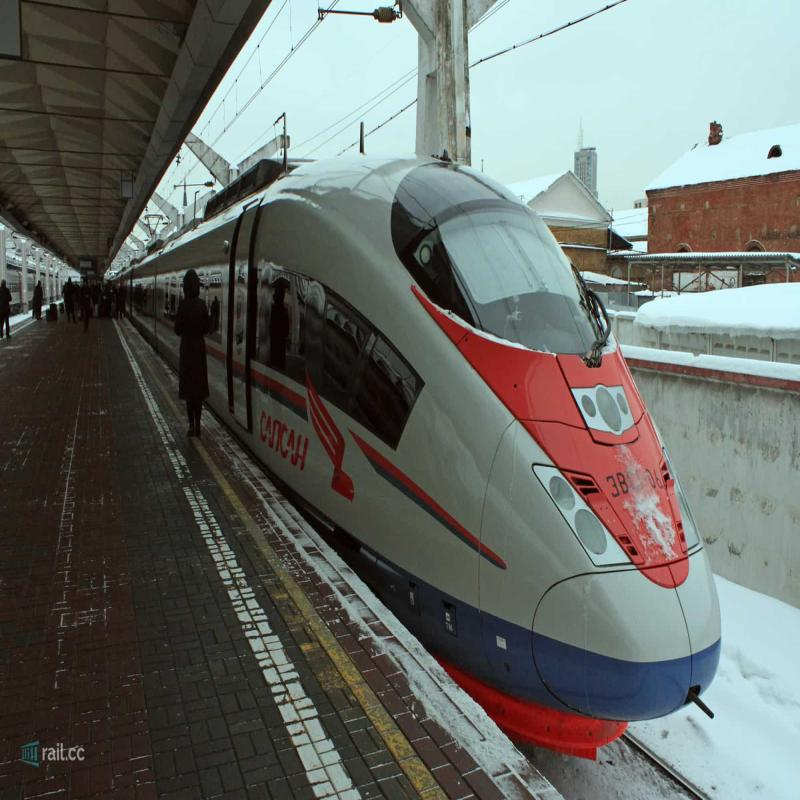train: (231, 114, 734, 682)
